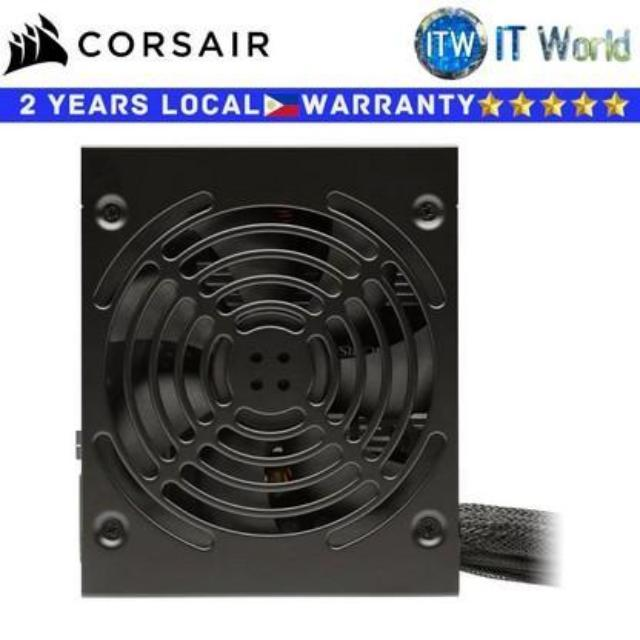PSU: (69, 140, 483, 612)
